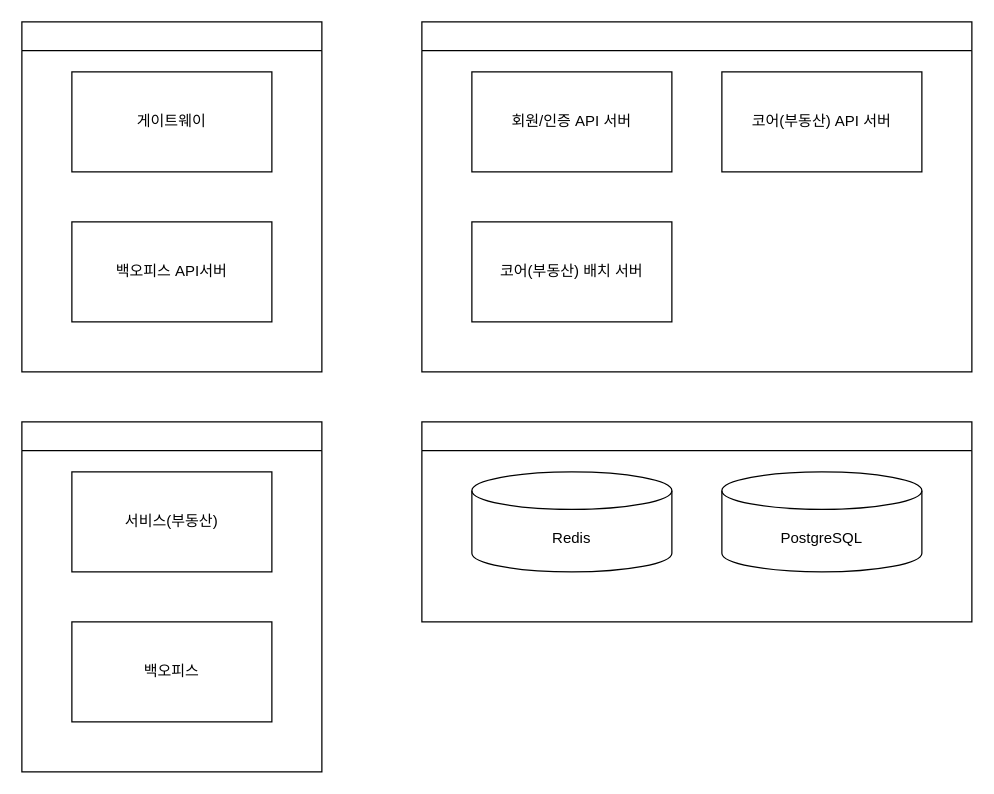
Image size: 994x794. Some labels were removed from this diagram. The box of each missing label's shape, as (x1, y1, x2, y2) in pixels:
DB: (421, 421, 972, 622)
SPA 서버: (21, 421, 322, 772)
내부망: (421, 21, 972, 372)
외부망: (21, 21, 322, 372)
